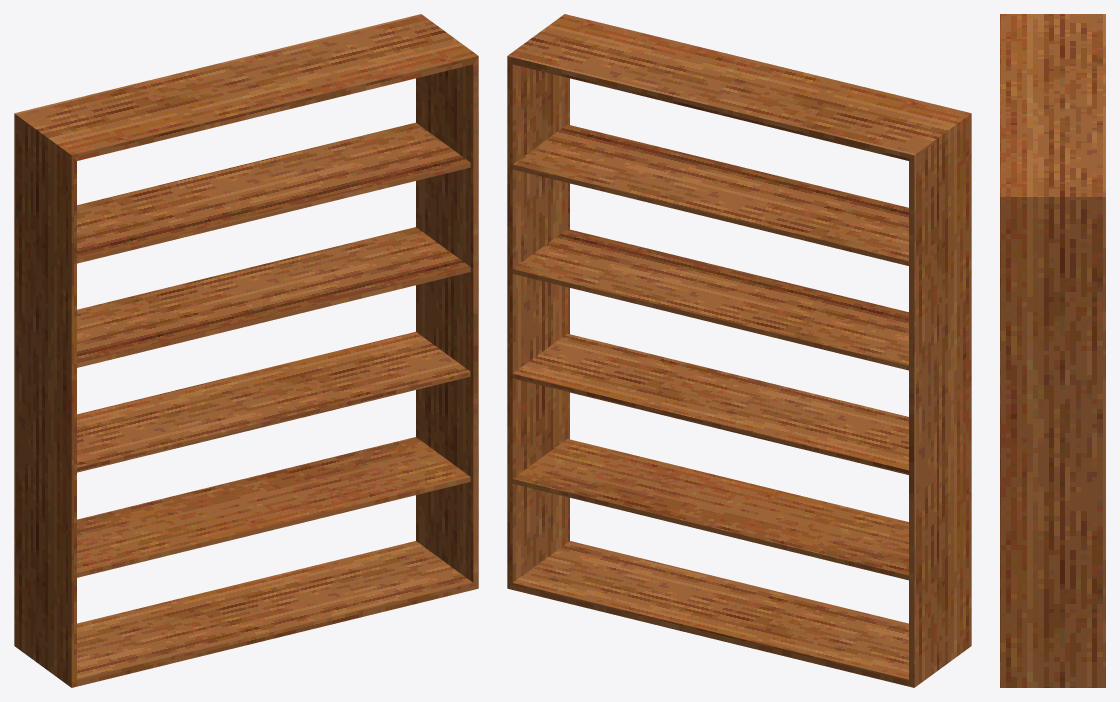
Rendered from book_case.glb.
3 renders of one model, left to right at view 1: azimuth 30°, elevation 25°; view 2: azimuth 150°, elevation 25°; view 3: azimuth 270°, elevation 25°, orthographic. The views are drawn at different scales.
Parts seen in each view (by area): view 1: book_case; view 2: book_case; view 3: book_case.
Part boxes in pixels (x1,y1,x2,y2): book_case: (14, 14, 478, 687); book_case: (507, 14, 971, 687); book_case: (1000, 14, 1105, 687).
Bounding box in the file's own units: 2 × 2.5 × 0.4888.
1 material, 1 textured.
